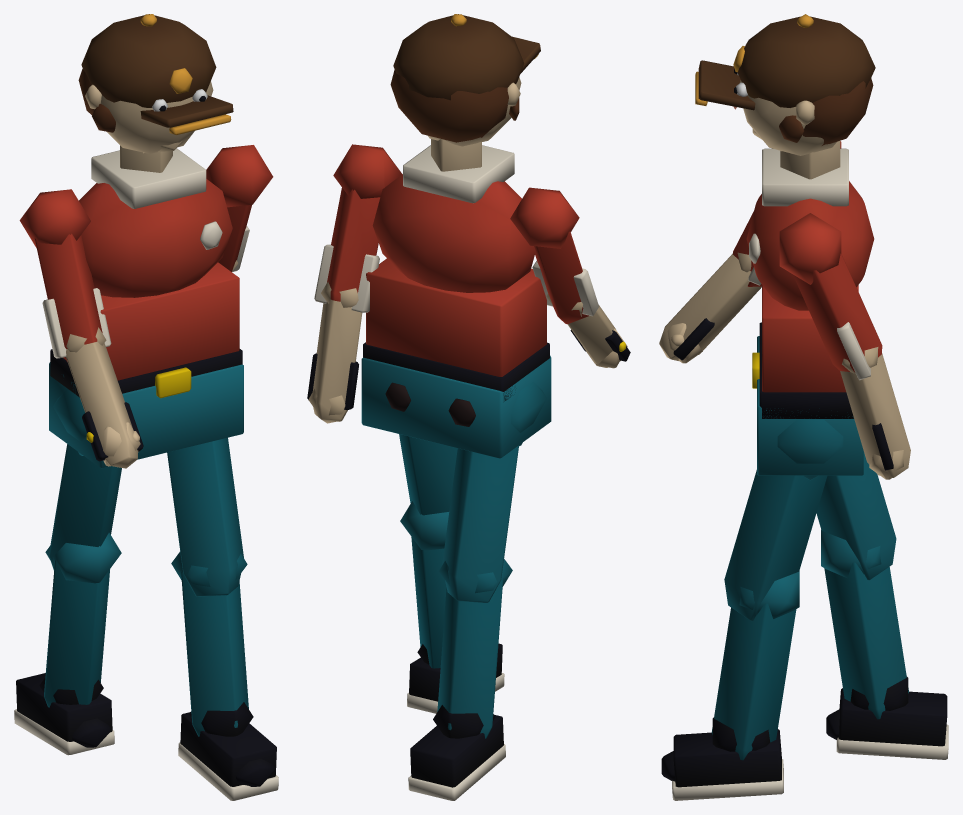
File: pedestrian.glb
3 views of the same model, side by side, from view 1: azimuth 30°, elevation 25°; view 2: azimuth 150°, elevation 25°; view 3: azimuth 270°, elevation 25° (orthographic). The views are drawn at different scales.
Visible parts, largest first — view 1: pedestrian; view 2: pedestrian; view 3: pedestrian.
Boxes of the visible parts, x1,y1,x2,y2 form: pedestrian: (14, 14, 278, 800); pedestrian: (307, 14, 630, 800); pedestrian: (659, 14, 948, 800).
Bounding box in the file's own units: 0.5675 × 1.72 × 0.5977.
